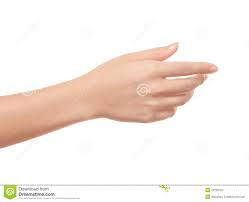hand: (66, 33, 222, 129)
